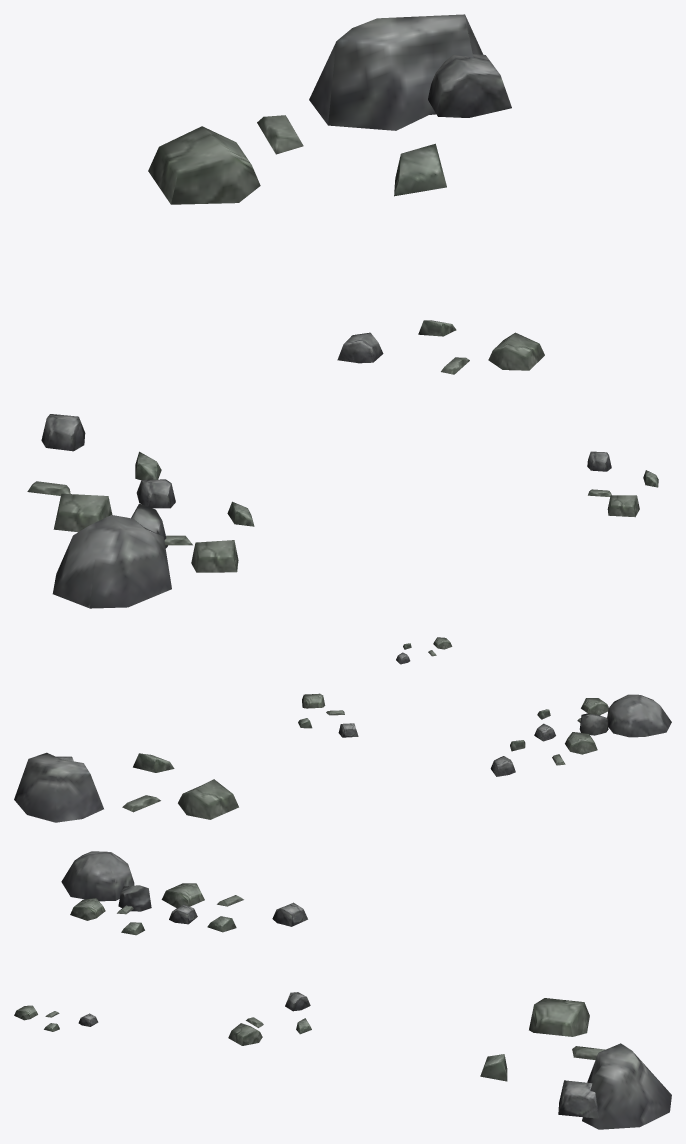
The model's file is Area_02_1.fbx.
3 views of the same model, one above another, from view 1: azimuth 30°, elevation 25°; view 2: azimuth 150°, elevation 25°; view 3: azimuth 270°, elevation 25° (orthographic). The views are drawn at different scales.
Visible parts, largest first — view 1: Area_02_1; view 2: Area_02_1; view 3: Area_02_1.
Part boxes in pixels (x1,y1,x2,y2): Area_02_1: (27, 14, 658, 608); Area_02_1: (14, 637, 671, 822); Area_02_1: (14, 851, 671, 1129).
Bounding box in the file's own units: 2542 × 206 × 2798.
